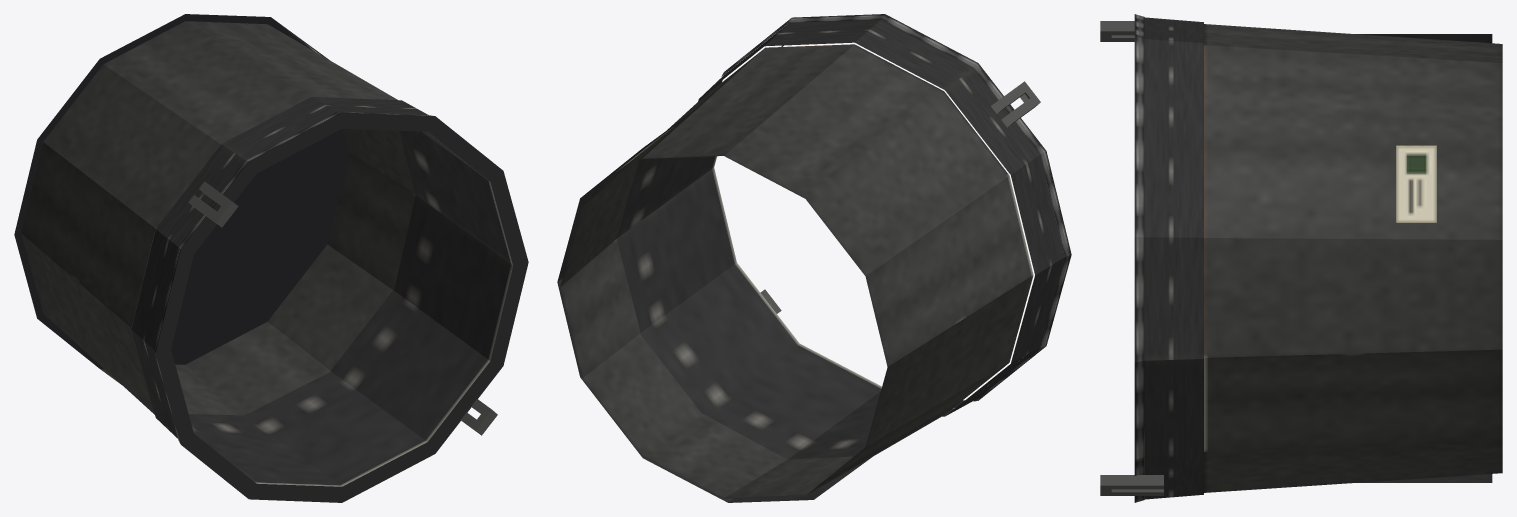
Rendered from pot_bag_xl_open.obj.
3 renders of one model, left to right at view 1: azimuth 30°, elevation 25°; view 2: azimuth 150°, elevation 25°; view 3: azimuth 270°, elevation 25°, orthographic. The views are drawn at different scales.
Size of the model in its own units: 0.964 by 0.964 by 0.789.
1 material, 1 textured.
